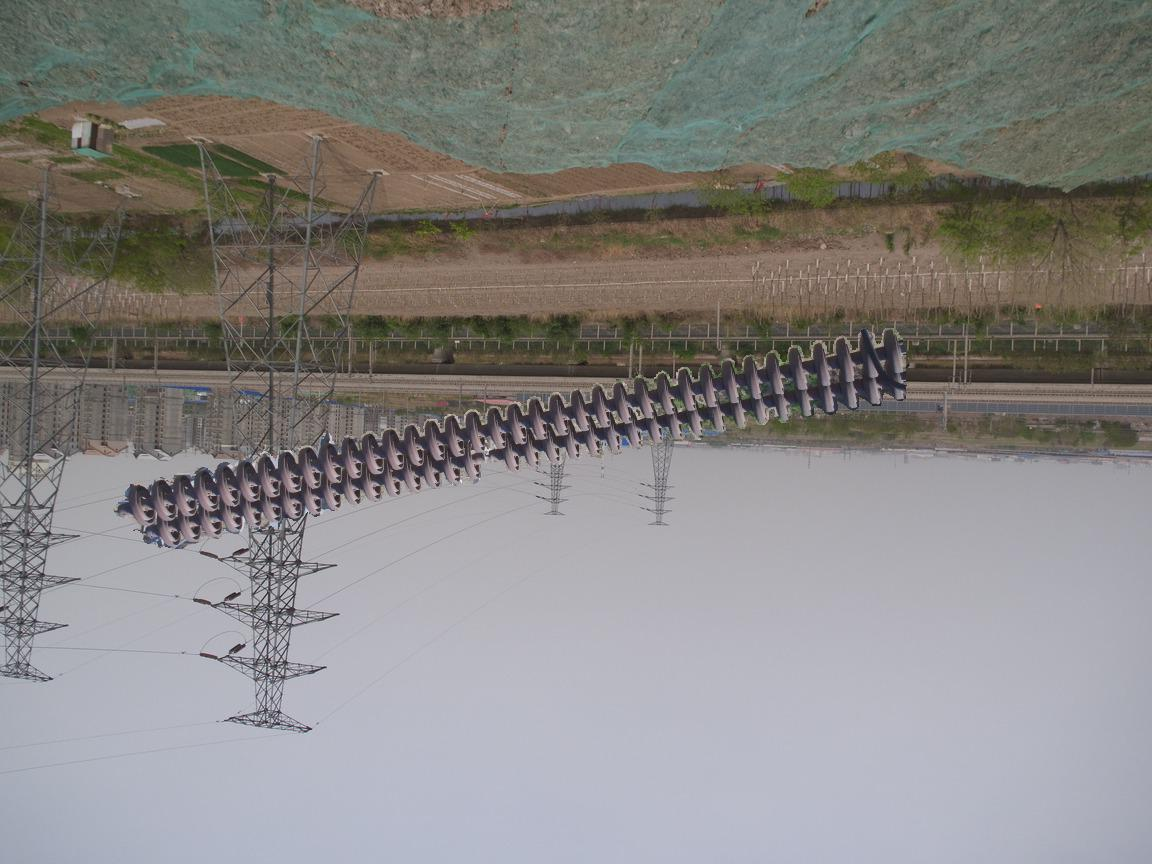insulator: (118, 320, 915, 549)
insulator_stringdrop: (461, 436, 523, 487)
